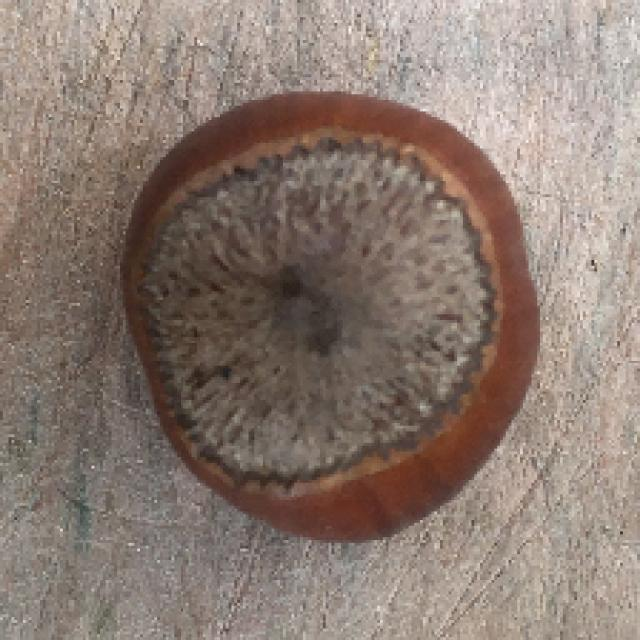damagedHazelnut: (110, 83, 544, 542)
